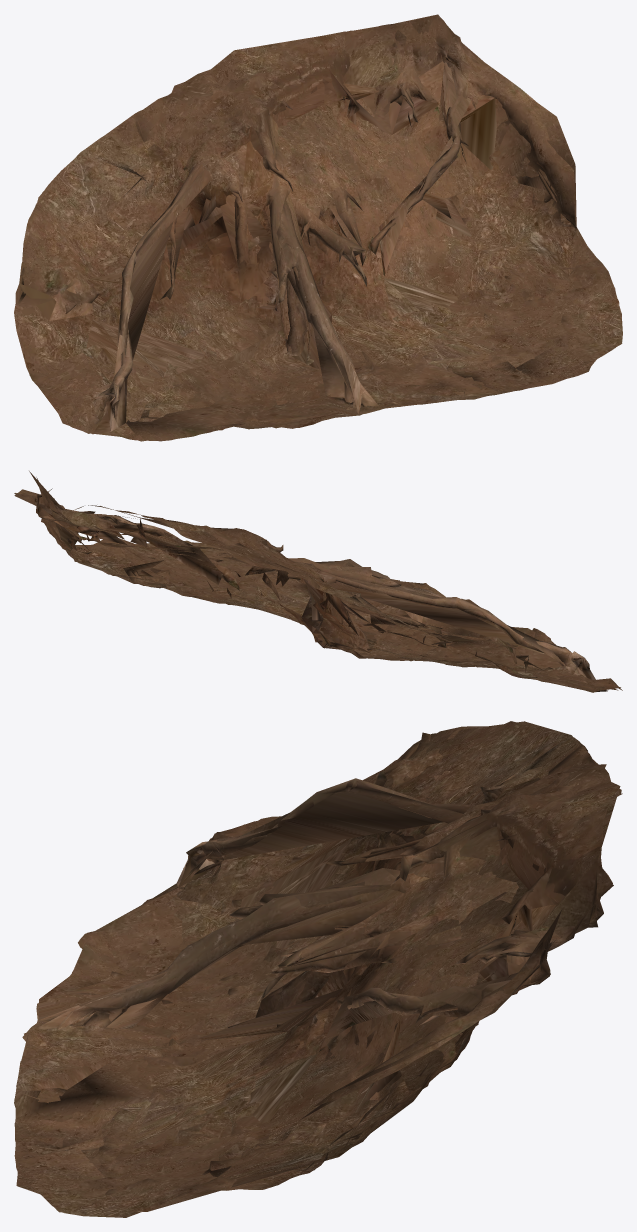
File: root_cluster_01.glb
3 views of the same model, one above another, from view 1: azimuth 30°, elevation 25°; view 2: azimuth 150°, elevation 25°; view 3: azimuth 270°, elevation 25° (orthographic). The views are drawn at different scales.
Size of the model in its own units: 4.13 by 1.51 by 2.69.
Materials: 1 (1 with a texture image).
